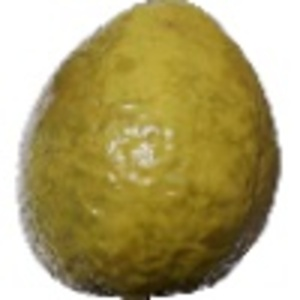goiaba: (11, 2, 284, 290)
